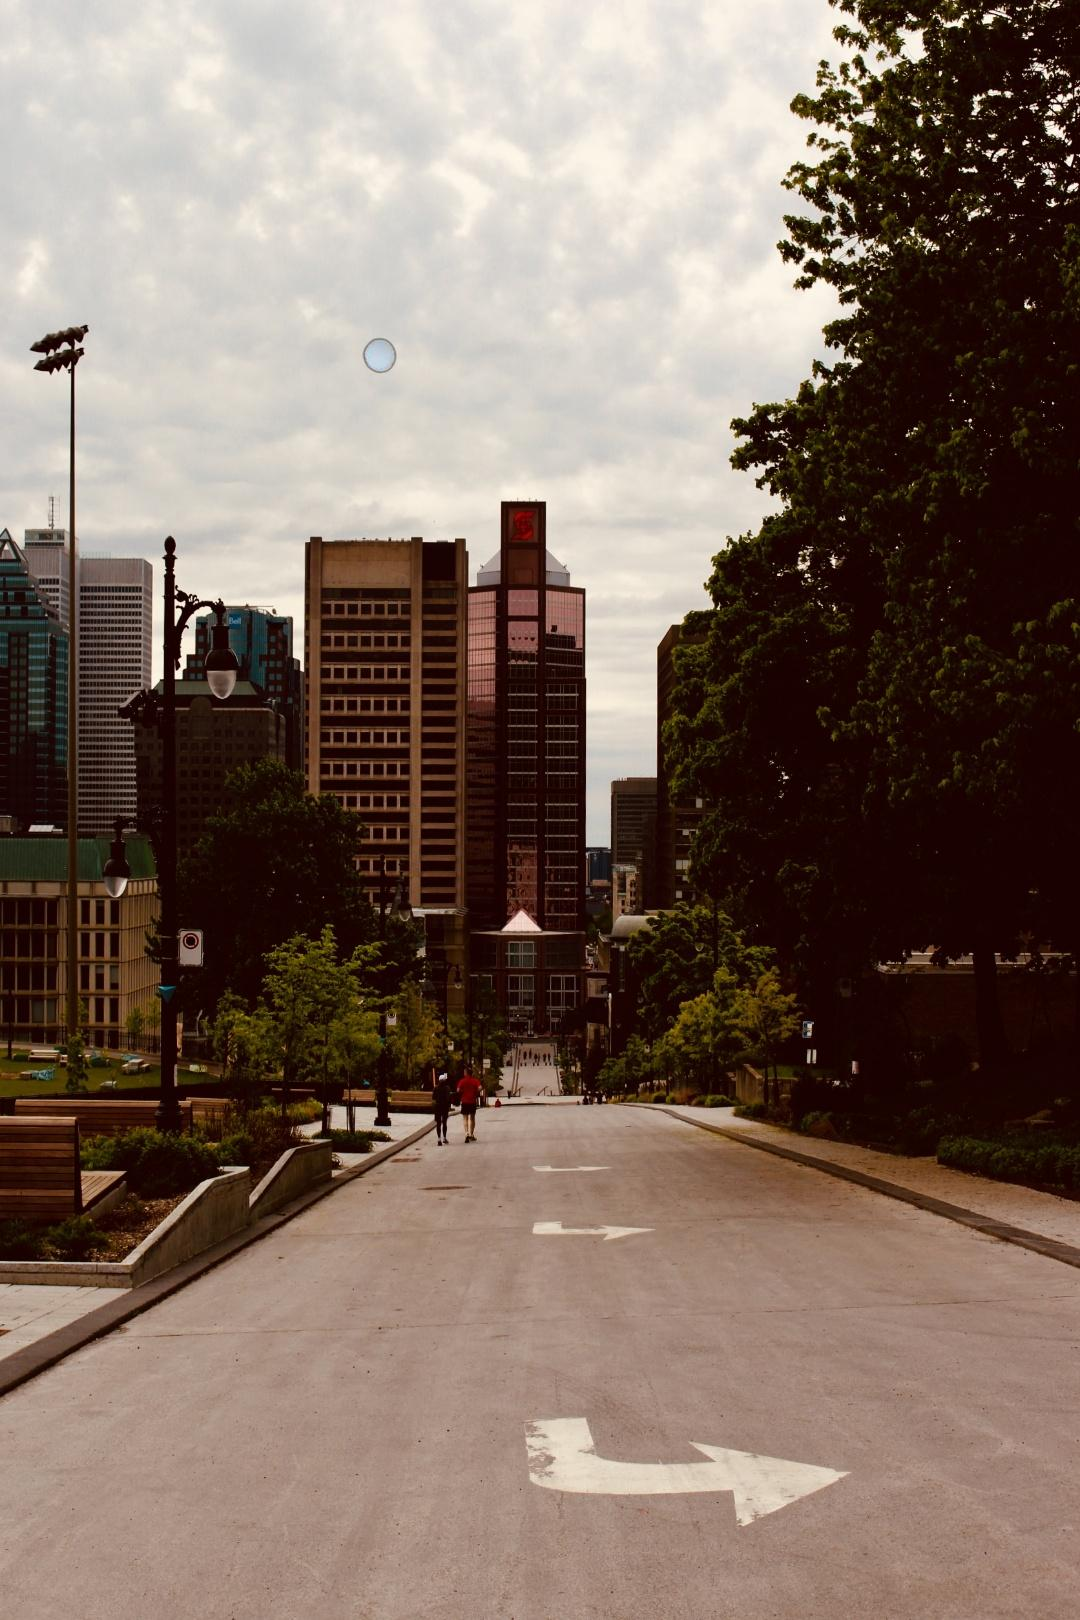trashbox-cardboard: (359, 335, 400, 375)
